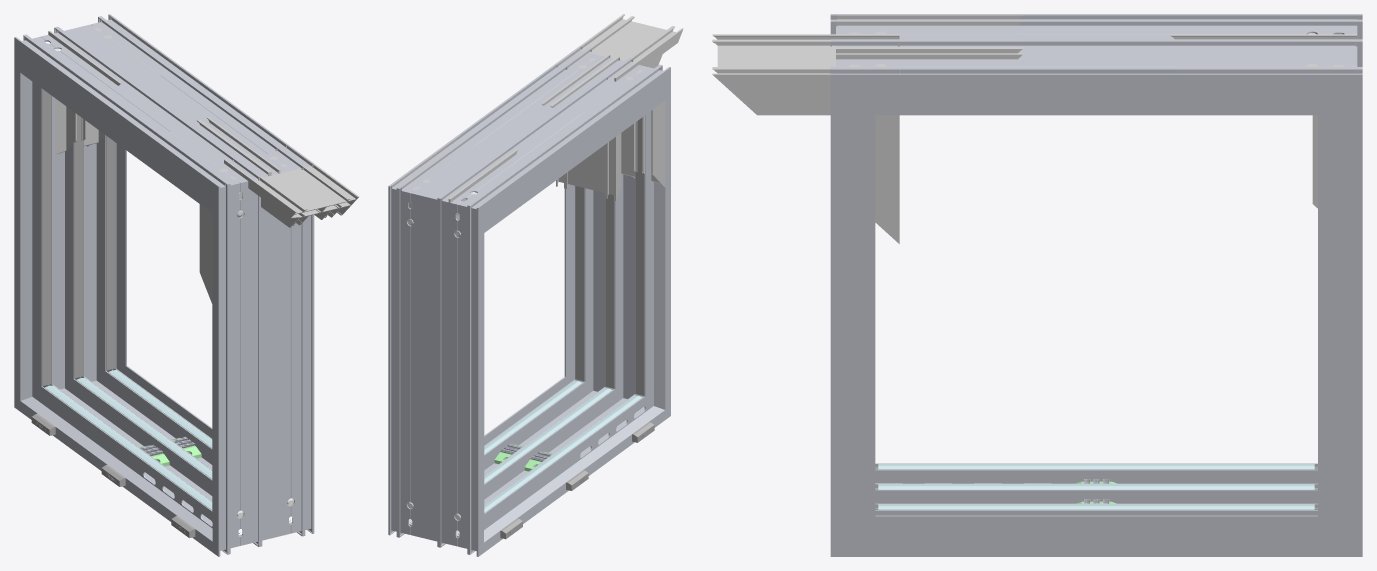
3 renders of one model, left to right at view 1: azimuth 30°, elevation 25°; view 2: azimuth 150°, elevation 25°; view 3: azimuth 270°, elevation 25°, orthographic. The views are drawn at different scales.
Parts seen in each view (by area): view 1: entity_80, entity_11, entity_18, entity_3, entity_20, entity_25, entity_36, entity_121, entity_122, entity_82, entity_91, entity_81 (+4 smaller); view 2: entity_11, entity_80, entity_18, entity_3, entity_25, entity_20, entity_125, entity_21, entity_84, entity_127, entity_126, entity_82 (+4 smaller); view 3: entity_18, entity_3, entity_80, entity_11, entity_20, entity_83, entity_21, entity_19, entity_81, entity_82, entity_90.
Boxes of the visible parts, bbox=[...] form: entity_80: bbox=[212, 164, 314, 556]; entity_11: bbox=[14, 15, 126, 406]; entity_18: bbox=[14, 14, 313, 192]; entity_3: bbox=[14, 365, 311, 556]; entity_20: bbox=[224, 145, 359, 227]; entity_25: bbox=[20, 52, 212, 212]; entity_36: bbox=[42, 89, 51, 385]; entity_121: bbox=[74, 114, 82, 378]; entity_122: bbox=[106, 136, 114, 370]; entity_82: bbox=[44, 385, 212, 510]; entity_91: bbox=[48, 17, 112, 154]; entity_81: bbox=[76, 377, 212, 478]; entity_11: bbox=[388, 186, 484, 556]; entity_80: bbox=[564, 47, 670, 415]; entity_18: bbox=[388, 45, 670, 213]; entity_3: bbox=[390, 376, 670, 556]; entity_25: bbox=[484, 82, 665, 232]; entity_20: bbox=[558, 14, 683, 79]; entity_125: bbox=[636, 118, 644, 395]; entity_21: bbox=[556, 64, 621, 200]; entity_84: bbox=[608, 55, 665, 187]; entity_127: bbox=[576, 186, 584, 381]; entity_126: bbox=[606, 194, 614, 388]; entity_82: bbox=[484, 395, 642, 512]; entity_18: bbox=[830, 14, 1362, 115]; entity_3: bbox=[831, 463, 1361, 556]; entity_80: bbox=[830, 15, 875, 556]; entity_11: bbox=[1318, 15, 1362, 556]; entity_20: bbox=[712, 34, 899, 115]; entity_83: bbox=[836, 15, 1023, 59]; entity_21: bbox=[875, 36, 899, 243]; entity_19: bbox=[878, 504, 1314, 509]; entity_81: bbox=[878, 484, 1314, 489]; entity_82: bbox=[878, 464, 1314, 469]; entity_90: bbox=[1170, 34, 1357, 66].
Bounding box in the file's own units: 0.1437 × 0.5 × 0.6111.
